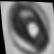correct: (1, 0, 54, 54)
